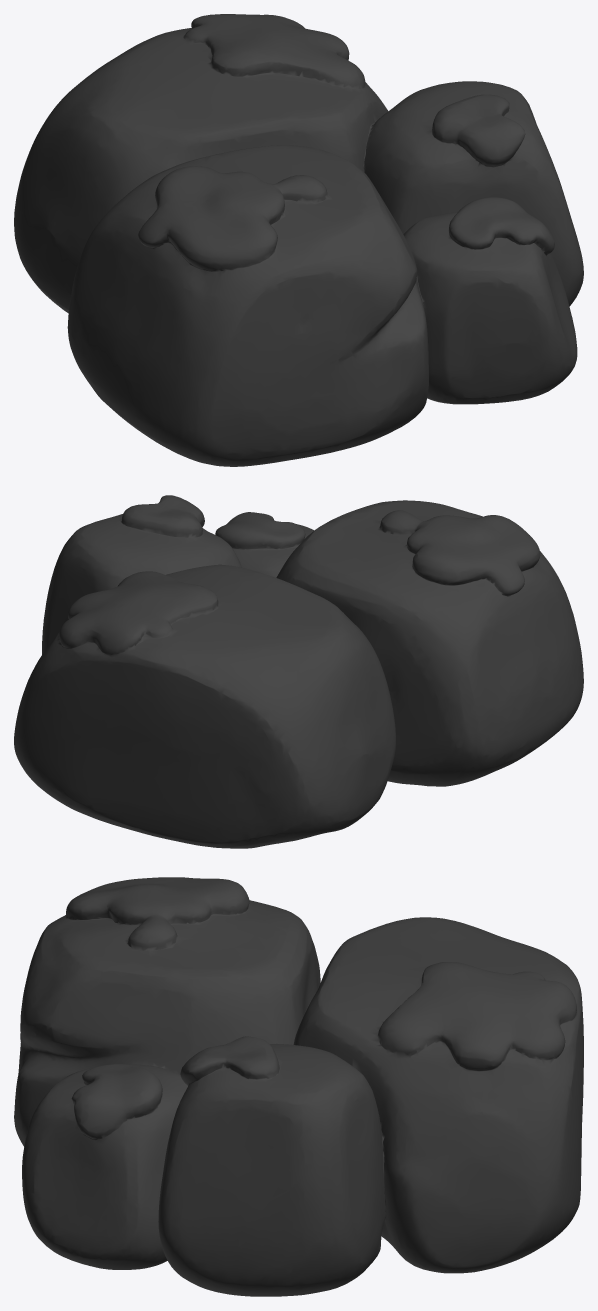
File: pr_rocas.glb
3 renders of one model, top to bottom at view 1: azimuth 30°, elevation 25°; view 2: azimuth 150°, elevation 25°; view 3: azimuth 270°, elevation 25°, orthographic. The views are drawn at different scales.
Visible parts, largest first — view 1: geometry_0; view 2: geometry_0; view 3: geometry_0.
Boxes of the visible parts, x1=… form: geometry_0: x1=14, y1=14, x2=583, y2=466; geometry_0: x1=14, y1=495, x2=583, y2=848; geometry_0: x1=14, y1=877, x2=583, y2=1296.
Bounding box in the file's own units: 2.19 × 0.998 × 2.17.
Materials: 1 (1 with a texture image).
